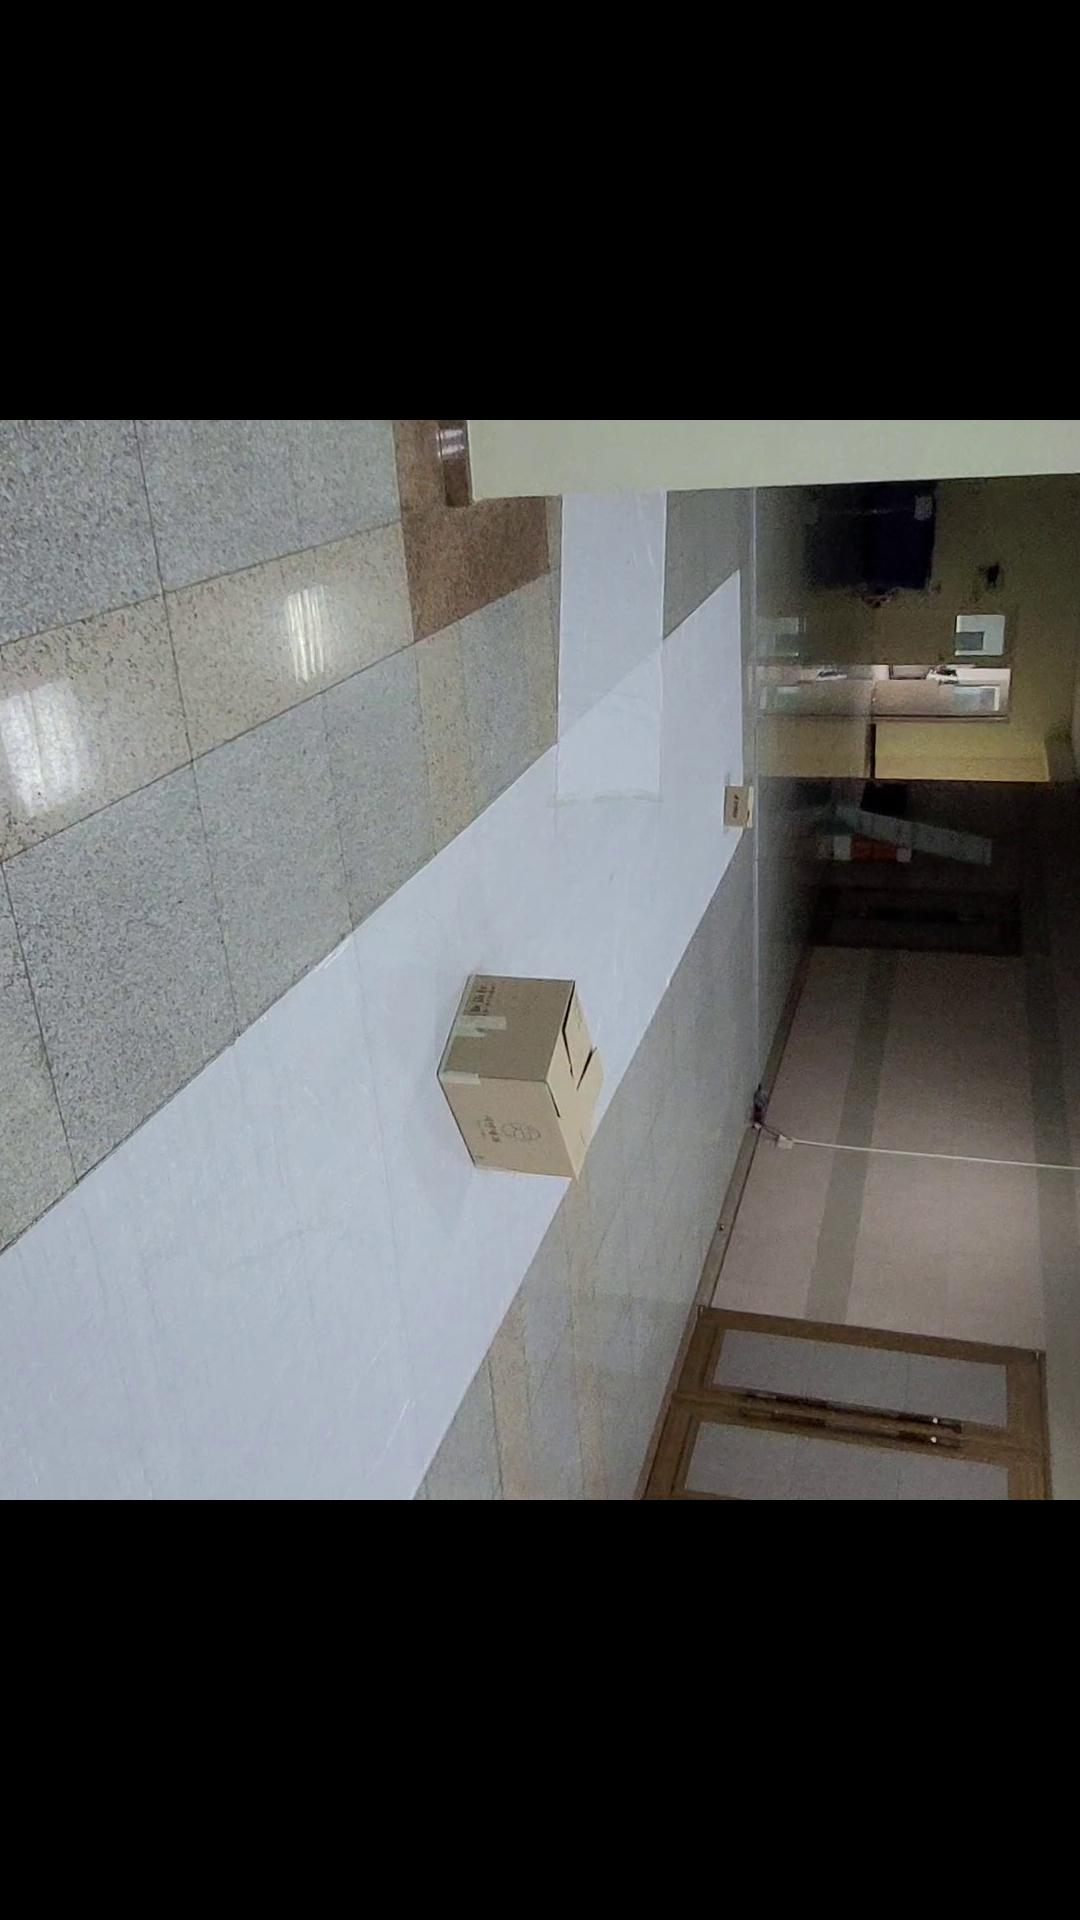Box: (430, 968, 622, 1197), (709, 778, 765, 840)
